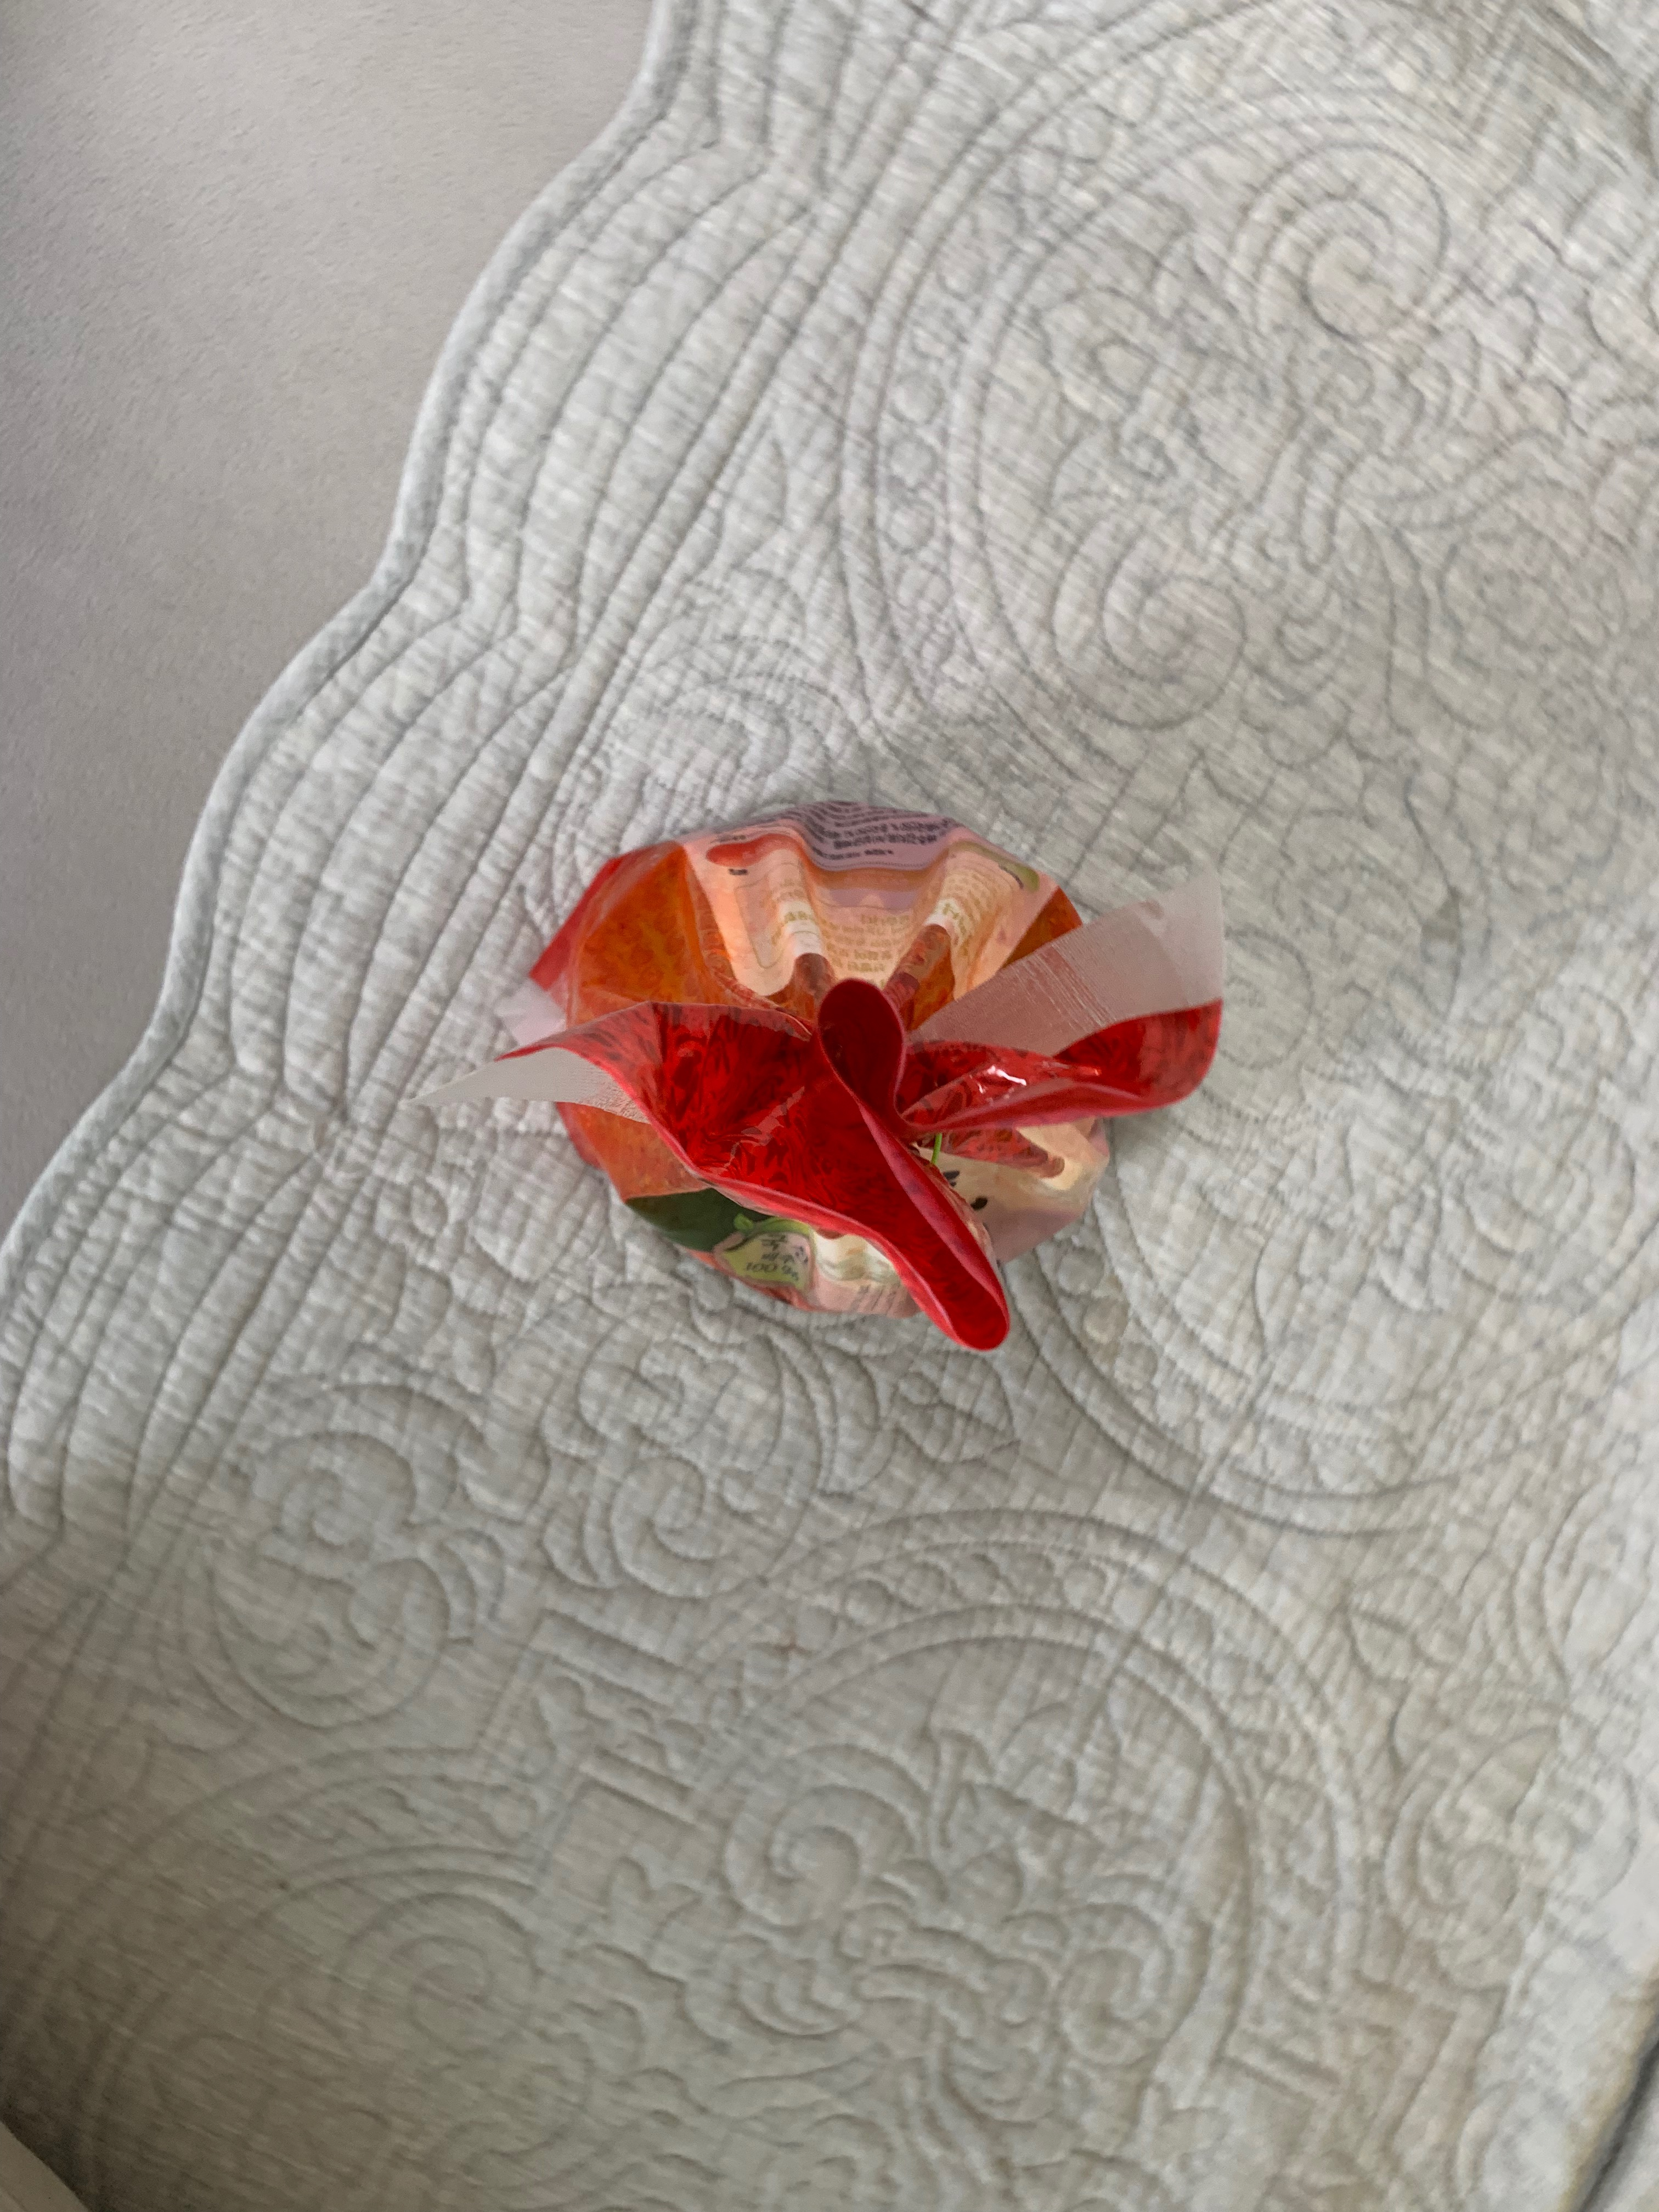kimchi: (533, 801, 1227, 1353)
